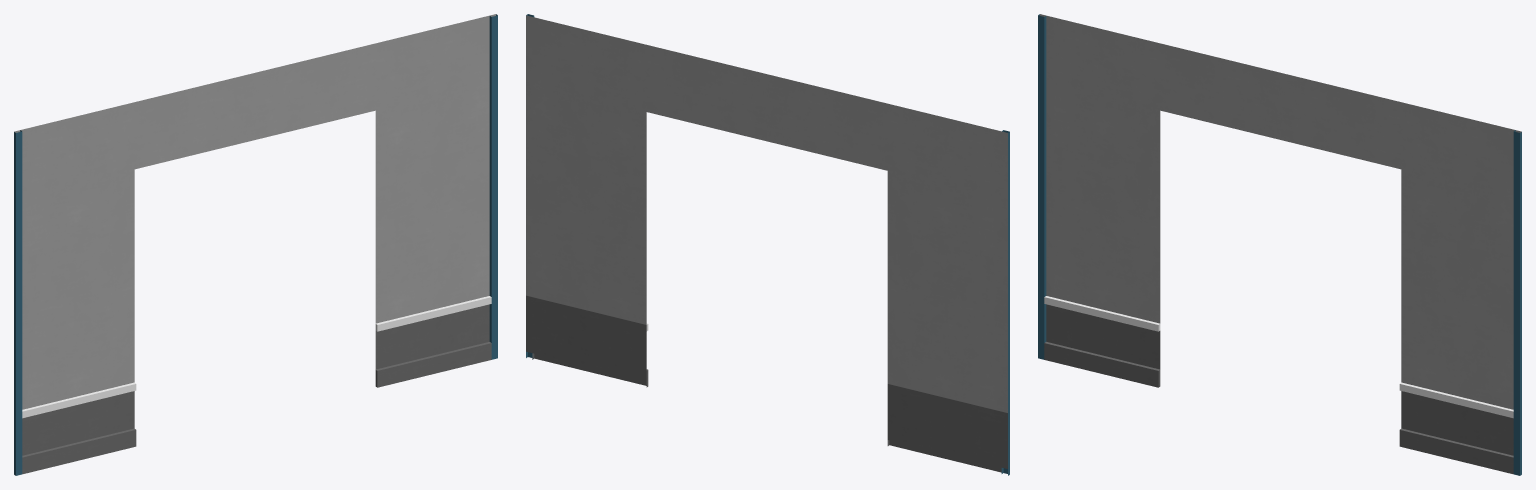
Rendered from SM06_Building_WallPanel_Exterior_01_DoorBottom_02.fbx.
3 renders of one model, left to right at view 1: azimuth 30°, elevation 25°; view 2: azimuth 150°, elevation 25°; view 3: azimuth 330°, elevation 25°, orthographic.
Visible parts, largest first — view 1: SM06_Building_WallPanel_Exterior_01_DoorBottom_02; view 2: SM06_Building_WallPanel_Exterior_01_DoorBottom_02; view 3: SM06_Building_WallPanel_Exterior_01_DoorBottom_02.
Part boxes in pixels (box(x1,y1,x2,y2)): SM06_Building_WallPanel_Exterior_01_DoorBottom_02: box(14, 14, 497, 475); SM06_Building_WallPanel_Exterior_01_DoorBottom_02: box(526, 14, 1009, 475); SM06_Building_WallPanel_Exterior_01_DoorBottom_02: box(1038, 14, 1521, 475).
Size of the model in its own units: 15 by 10.2 by 0.1.
